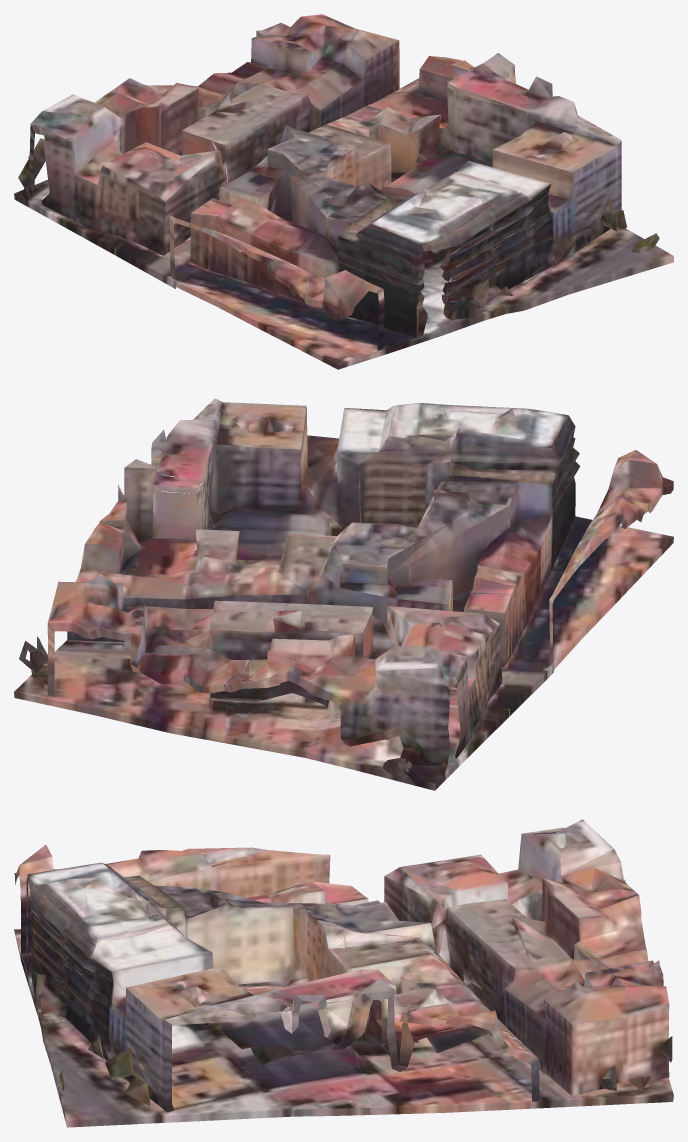
The picture shows the model from 3 angles, top to bottom: view 1: azimuth 30°, elevation 25°; view 2: azimuth 150°, elevation 25°; view 3: azimuth 270°, elevation 25°; orthographic projection. The views are drawn at different scales.
Parts seen in each view (by area): view 1: Mesh_0; view 2: Mesh_0; view 3: Mesh_0.
Part boxes in pixels (x1,y1,x2,y2): Mesh_0: (14, 14, 673, 369); Mesh_0: (14, 398, 673, 790); Mesh_0: (14, 819, 673, 1127).
Bounding box in the file's own units: 133 × 39.11 × 165.
Materials: 1 (1 with a texture image).
